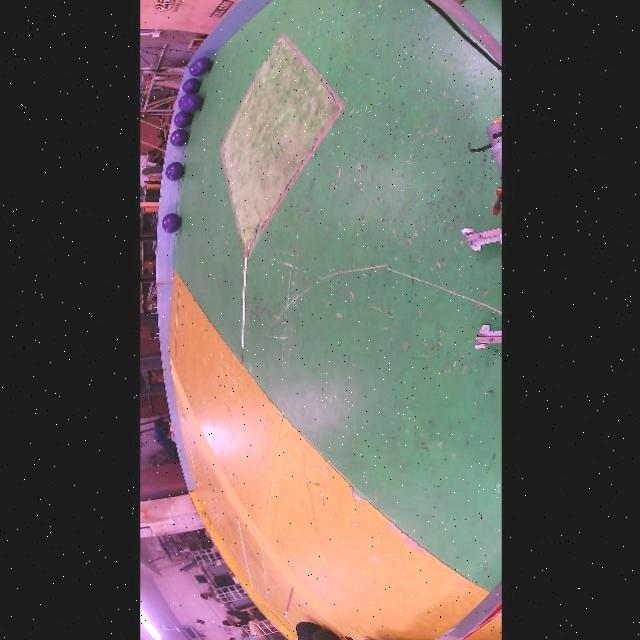P: (177, 93, 202, 112), (161, 213, 181, 233), (165, 163, 183, 180), (170, 129, 188, 146), (173, 111, 192, 127), (182, 78, 200, 93), (196, 58, 211, 74), (188, 63, 197, 76)
